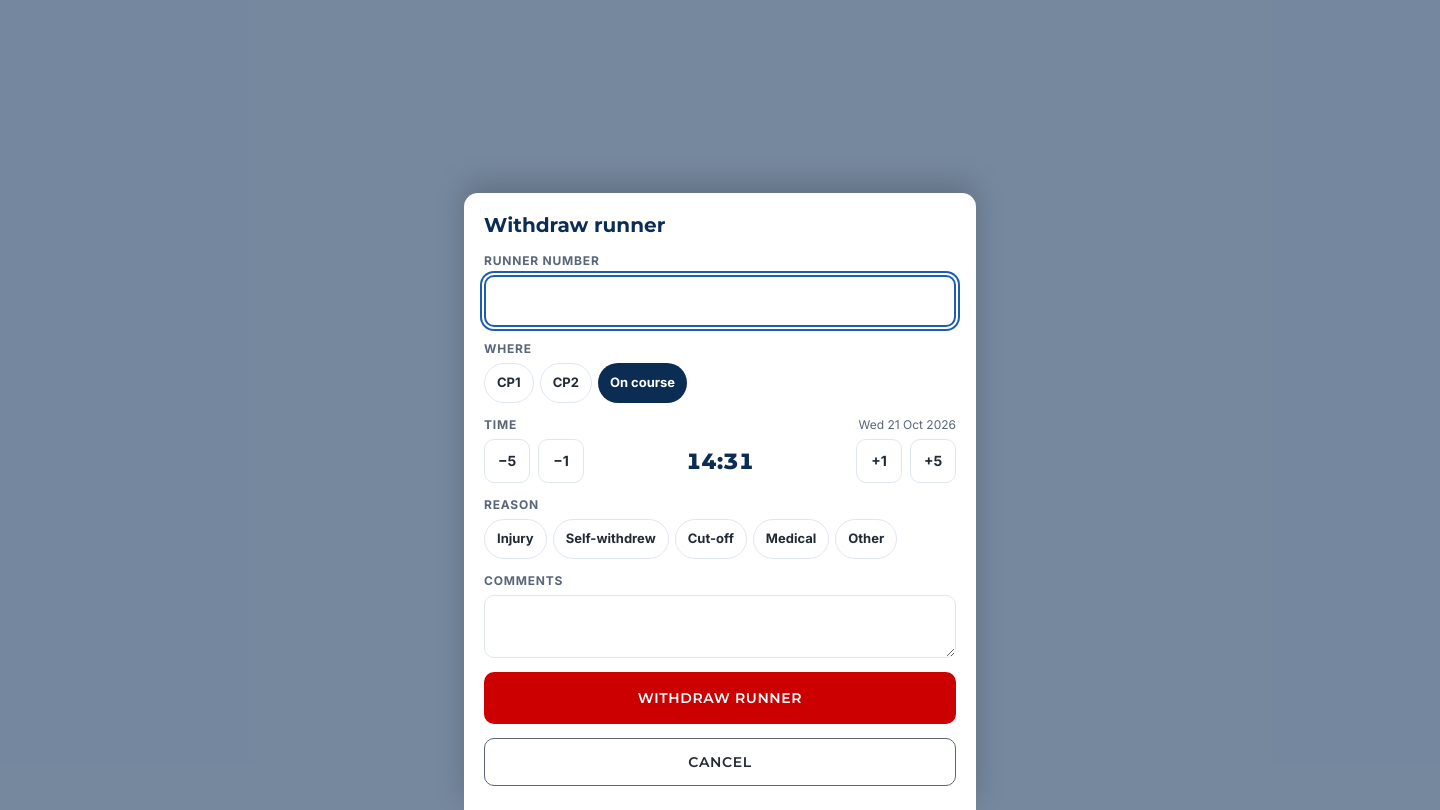
Test: WithdrawalDialog › requires a runner number
Click the button "Withdraw runner". click: (720, 698)
box: [484,672,956,724]
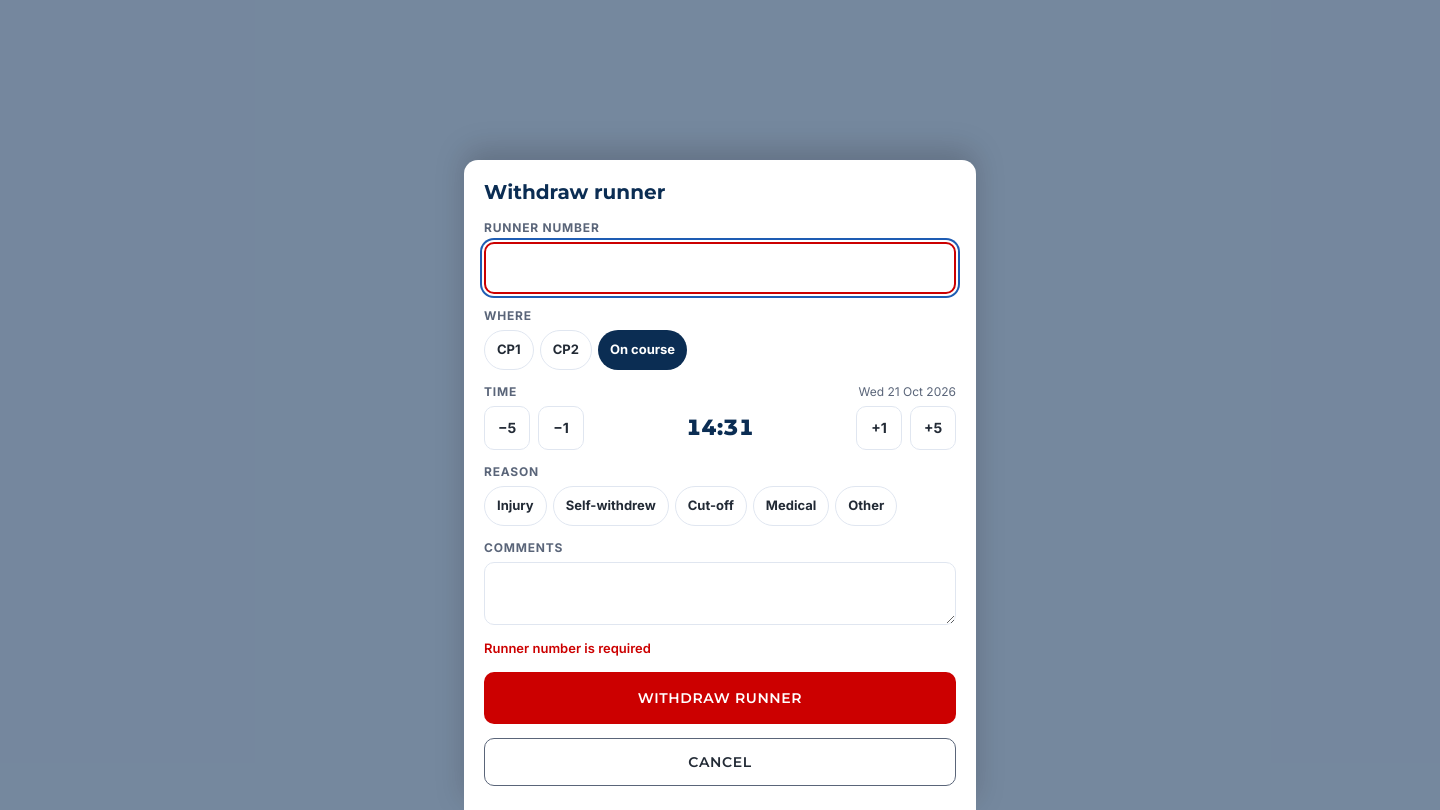
Now the text "Runner number is required" is shown, box [484,640,651,656]
